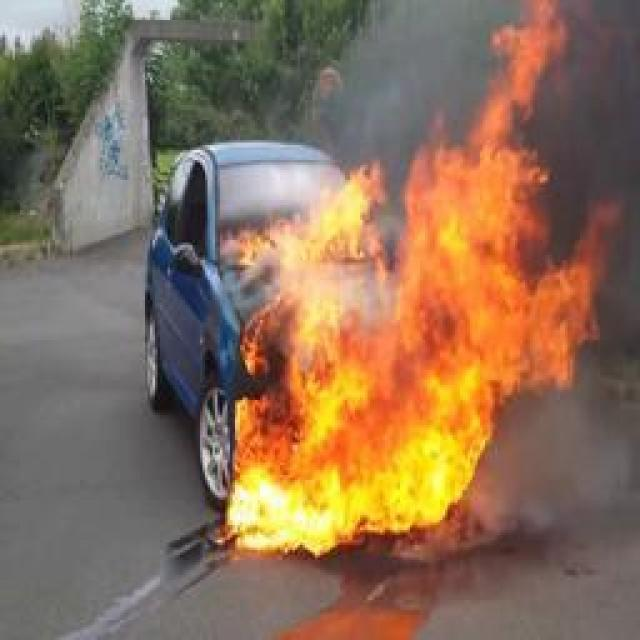Fire: (225, 0, 620, 558)
